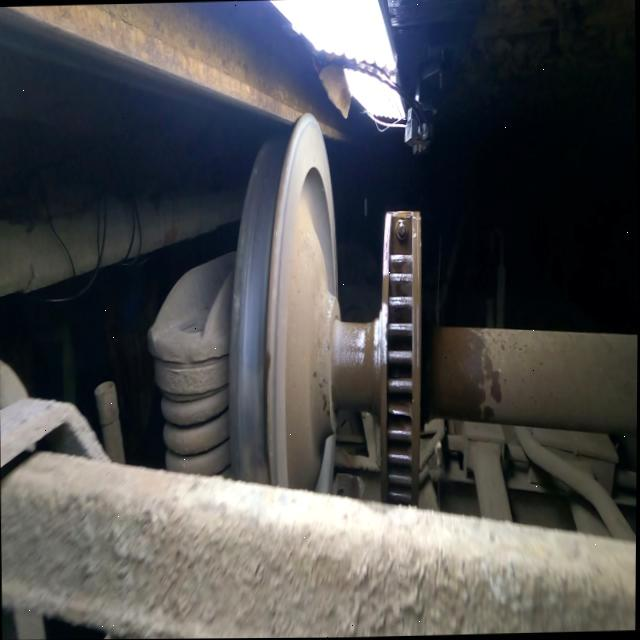Cracks-Scratches: (231, 290, 241, 320)
Shelling: (242, 441, 268, 479)
Wheel: (228, 113, 339, 488)
